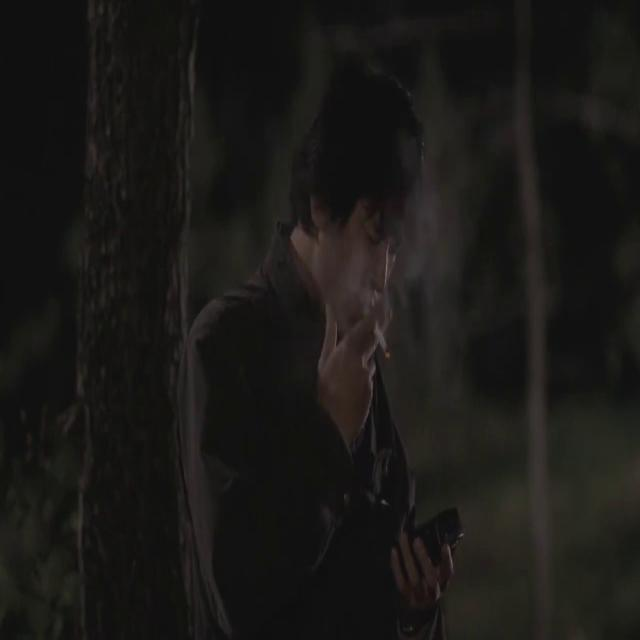Smooking: (368, 313, 396, 369)
